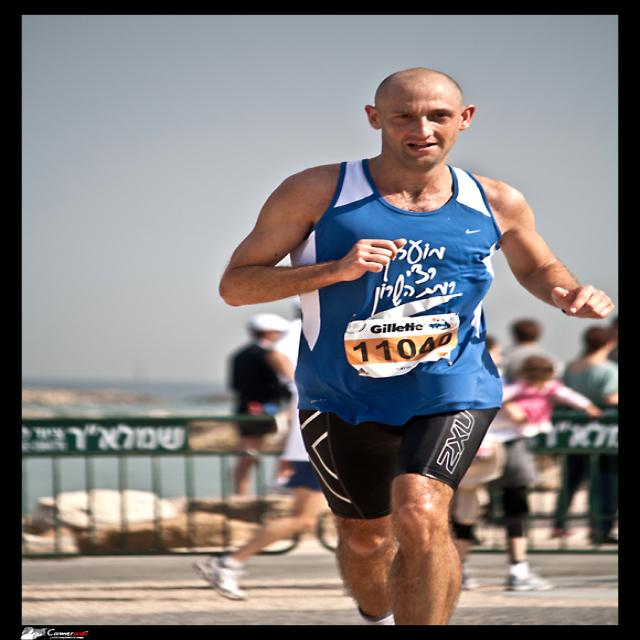Bib: (350, 336, 452, 364)
